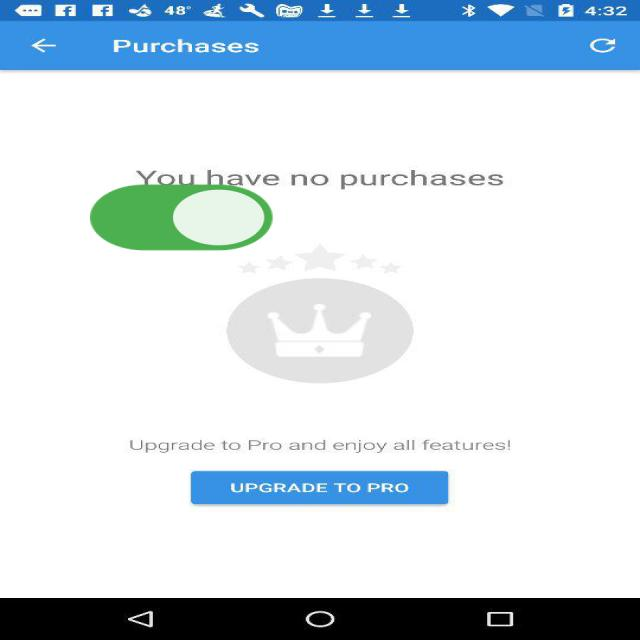social proof: (82, 159, 281, 281)
